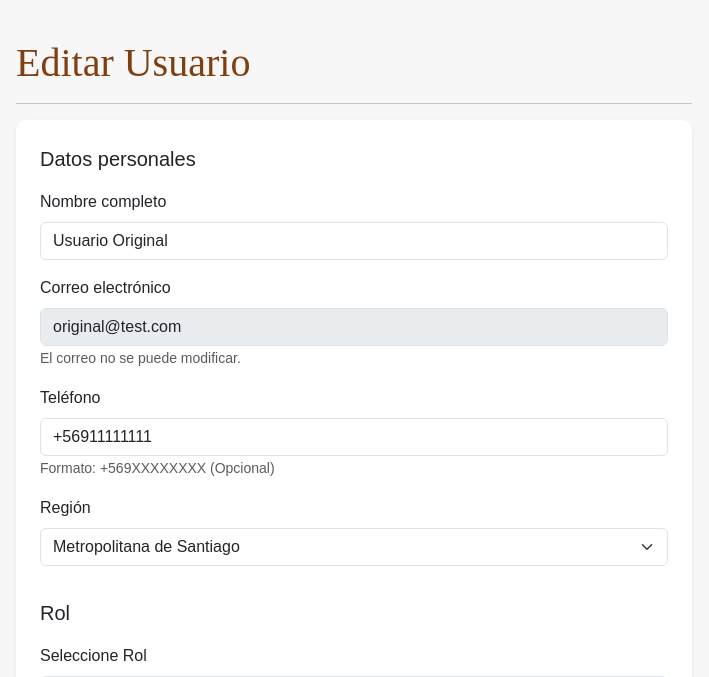
Scenario: Pruebas para EditUser › CP5: Debe mostrar error si el teléfono es inválido (corto)
Replace the text in the field labelled "Teléfono" with "+569123" at [354, 437], box x1=40 y1=418 x2=668 y2=456
(page scrolled)
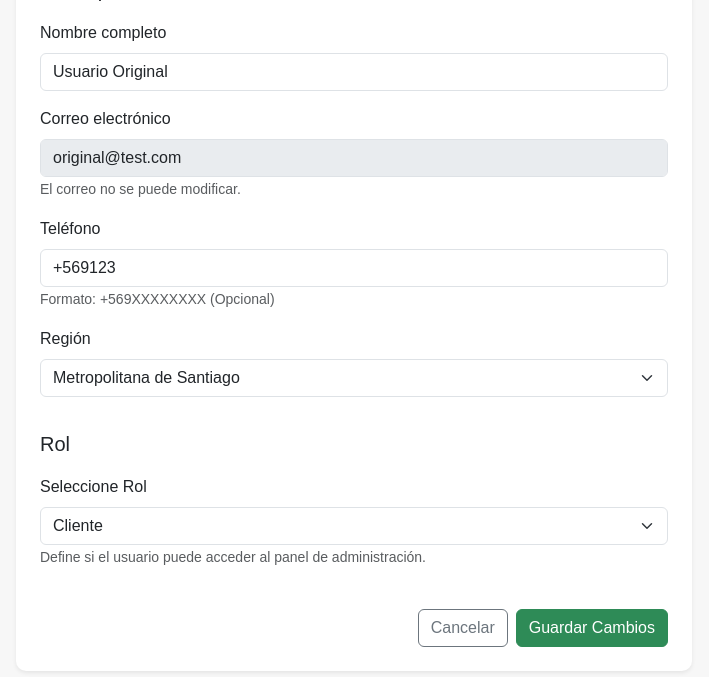
Submit the form from the button "Guardar Cambios", box x1=516 y1=609 x2=668 y2=647
(page scrolled)
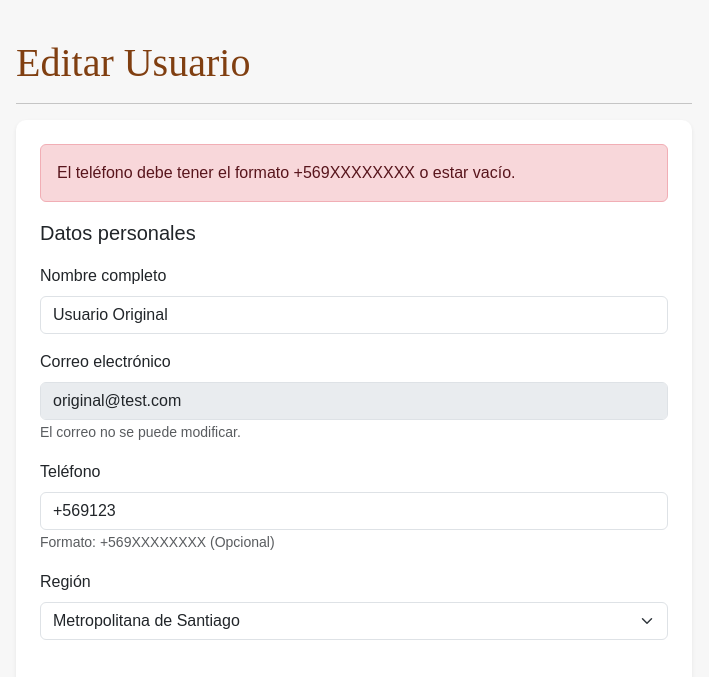
Expected: the text "El teléfono debe tener el formato +569XXXXXXXX o estar vacío" is shown, x1=57 y1=164 x2=516 y2=181
